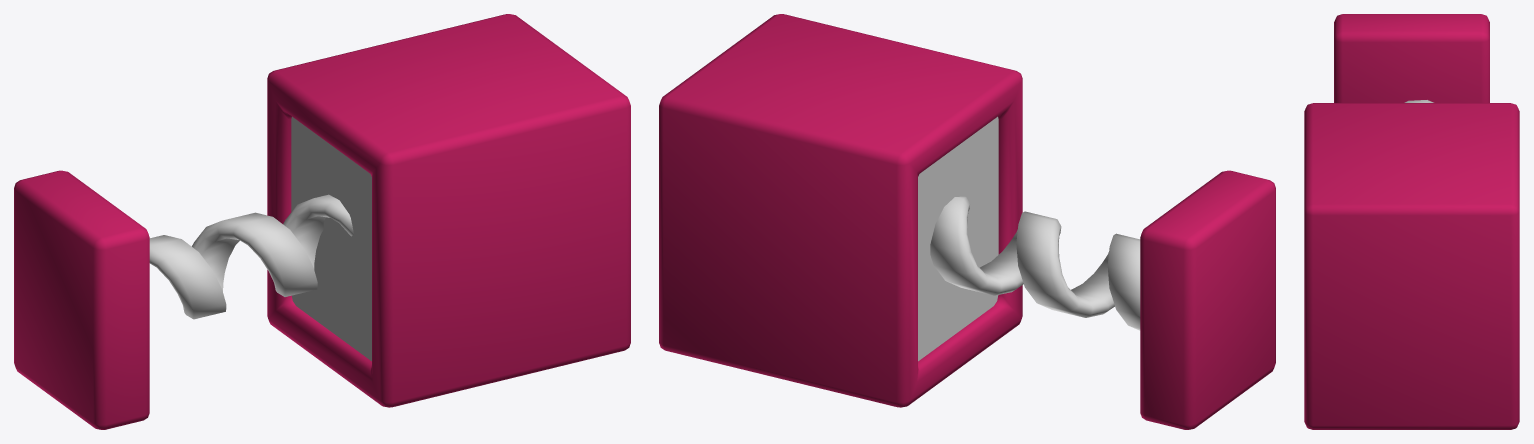
The model's file is spring_half_pink.fbx.
3 renders of one model, left to right at view 1: azimuth 30°, elevation 25°; view 2: azimuth 150°, elevation 25°; view 3: azimuth 270°, elevation 25°, orthographic. The views are drawn at different scales.
Visible parts, largest first — view 1: spring_half_pink_main, spring_half_pink_serve; view 2: spring_half_pink_main, spring_half_pink_serve; view 3: spring_half_pink_main, spring_half_pink_serve.
Part boxes in pixels (box(x1,y1,x2,y2)): spring_half_pink_main: box(267, 14, 630, 407); spring_half_pink_serve: box(14, 170, 353, 429); spring_half_pink_main: box(659, 14, 1022, 407); spring_half_pink_serve: box(930, 170, 1275, 429); spring_half_pink_main: box(1304, 103, 1519, 429); spring_half_pink_serve: box(1334, 14, 1489, 102).
Size of the model in its own units: 0.5 by 0.2341 by 0.2024.
